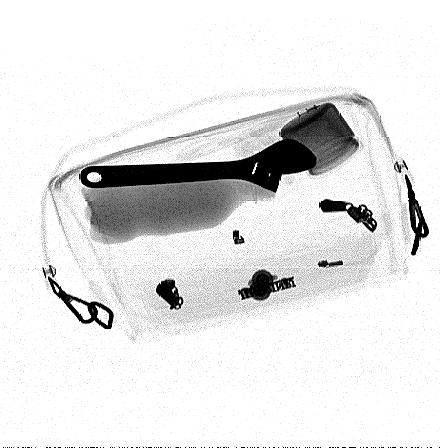Wrench: (77, 138, 322, 195)
